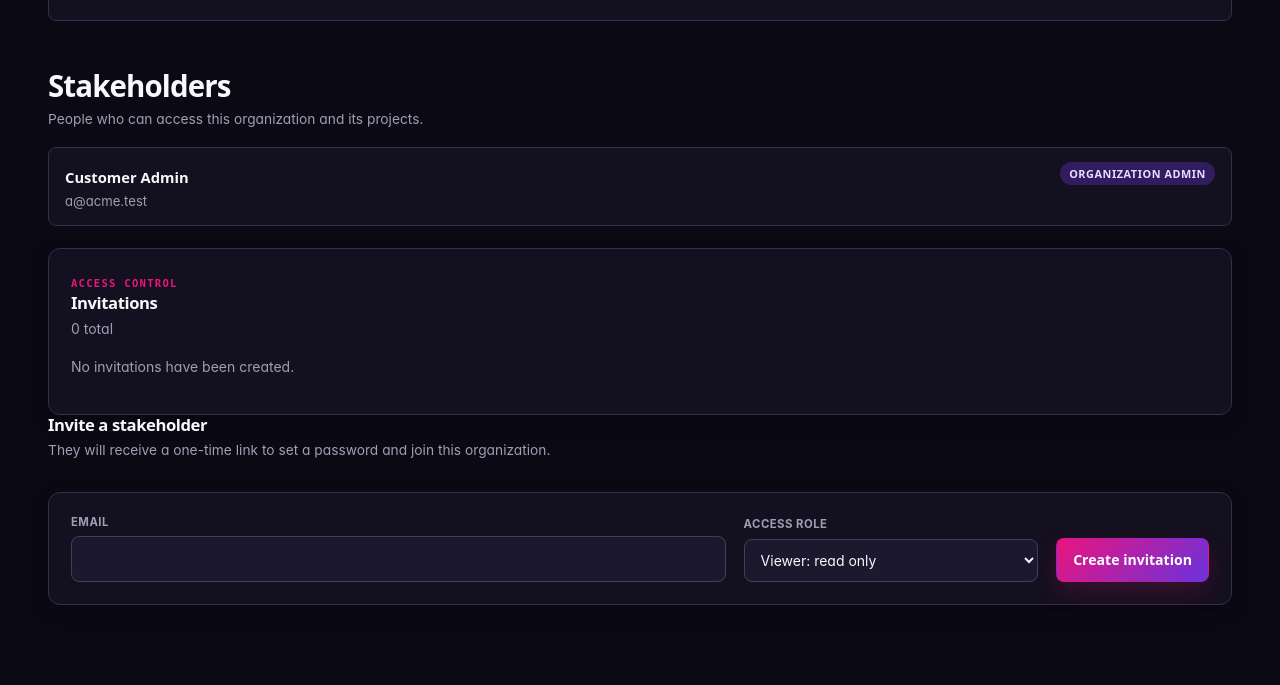
it: shows an invitation error instead of leaving a rejected request unhandled
(page scrolled)
Type "member@acme.test" into the field labelled "Email" at [398, 559], box [71,536,726,582]
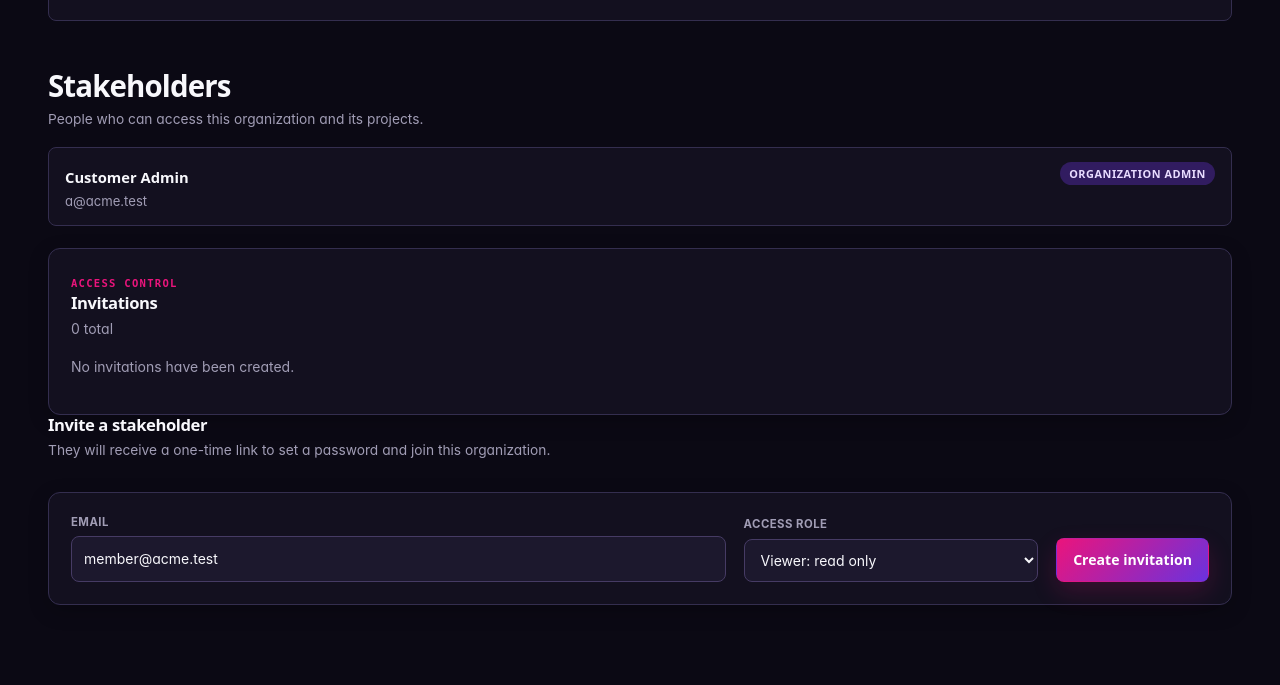
Click the button "Create invitation" at [1133, 560], box [1056,538,1209,582]
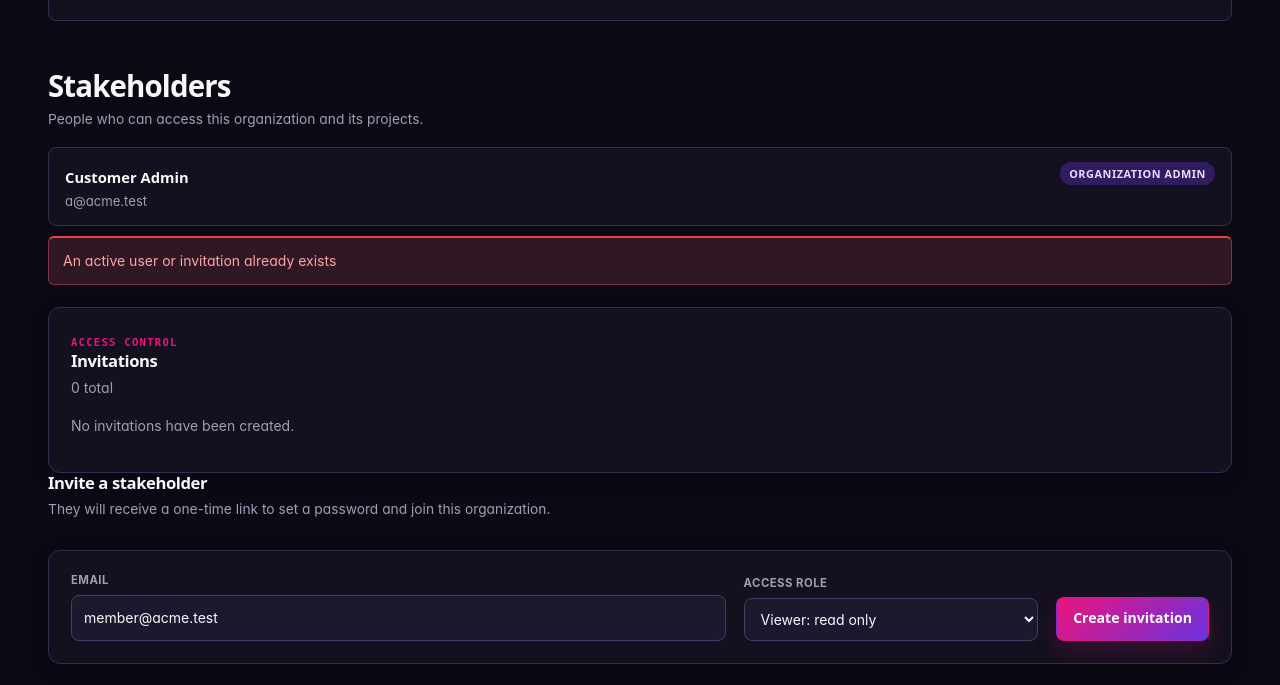
Check: the message reads "An active user or invitation already exists", box [63,252,336,269]
